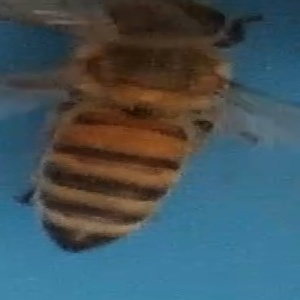bee: (2, 1, 278, 259)
